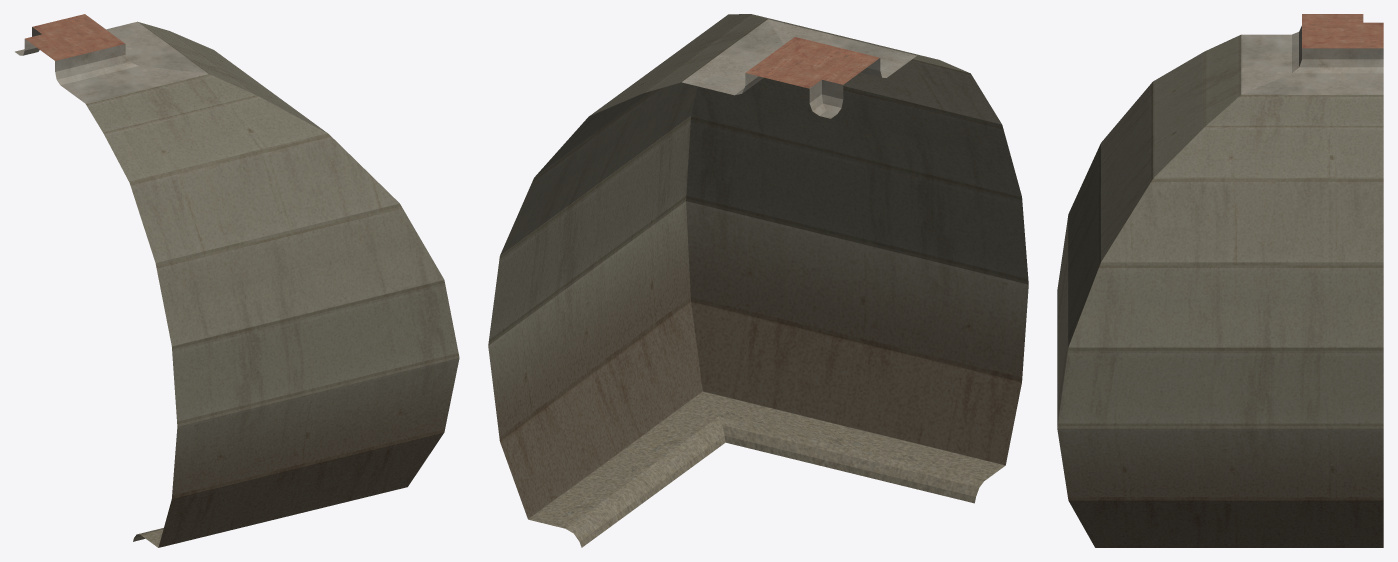
Rendered from 9x9_far_corner_piece.fbx.
The picture shows the model from 3 angles, left to right: view 1: azimuth 30°, elevation 25°; view 2: azimuth 150°, elevation 25°; view 3: azimuth 270°, elevation 25°; orthographic projection. The views are drawn at different scales.
Visible parts, largest first — view 1: 9x9_far_corner_hallway_piece; view 2: 9x9_far_corner_hallway_piece; view 3: 9x9_far_corner_hallway_piece.
Part boxes in pixels (x1,y1,x2,y2): 9x9_far_corner_hallway_piece: (15, 14, 459, 547); 9x9_far_corner_hallway_piece: (488, 14, 1028, 547); 9x9_far_corner_hallway_piece: (1057, 14, 1383, 547).
Size of the model in its own units: 360 by 517 by 360.
